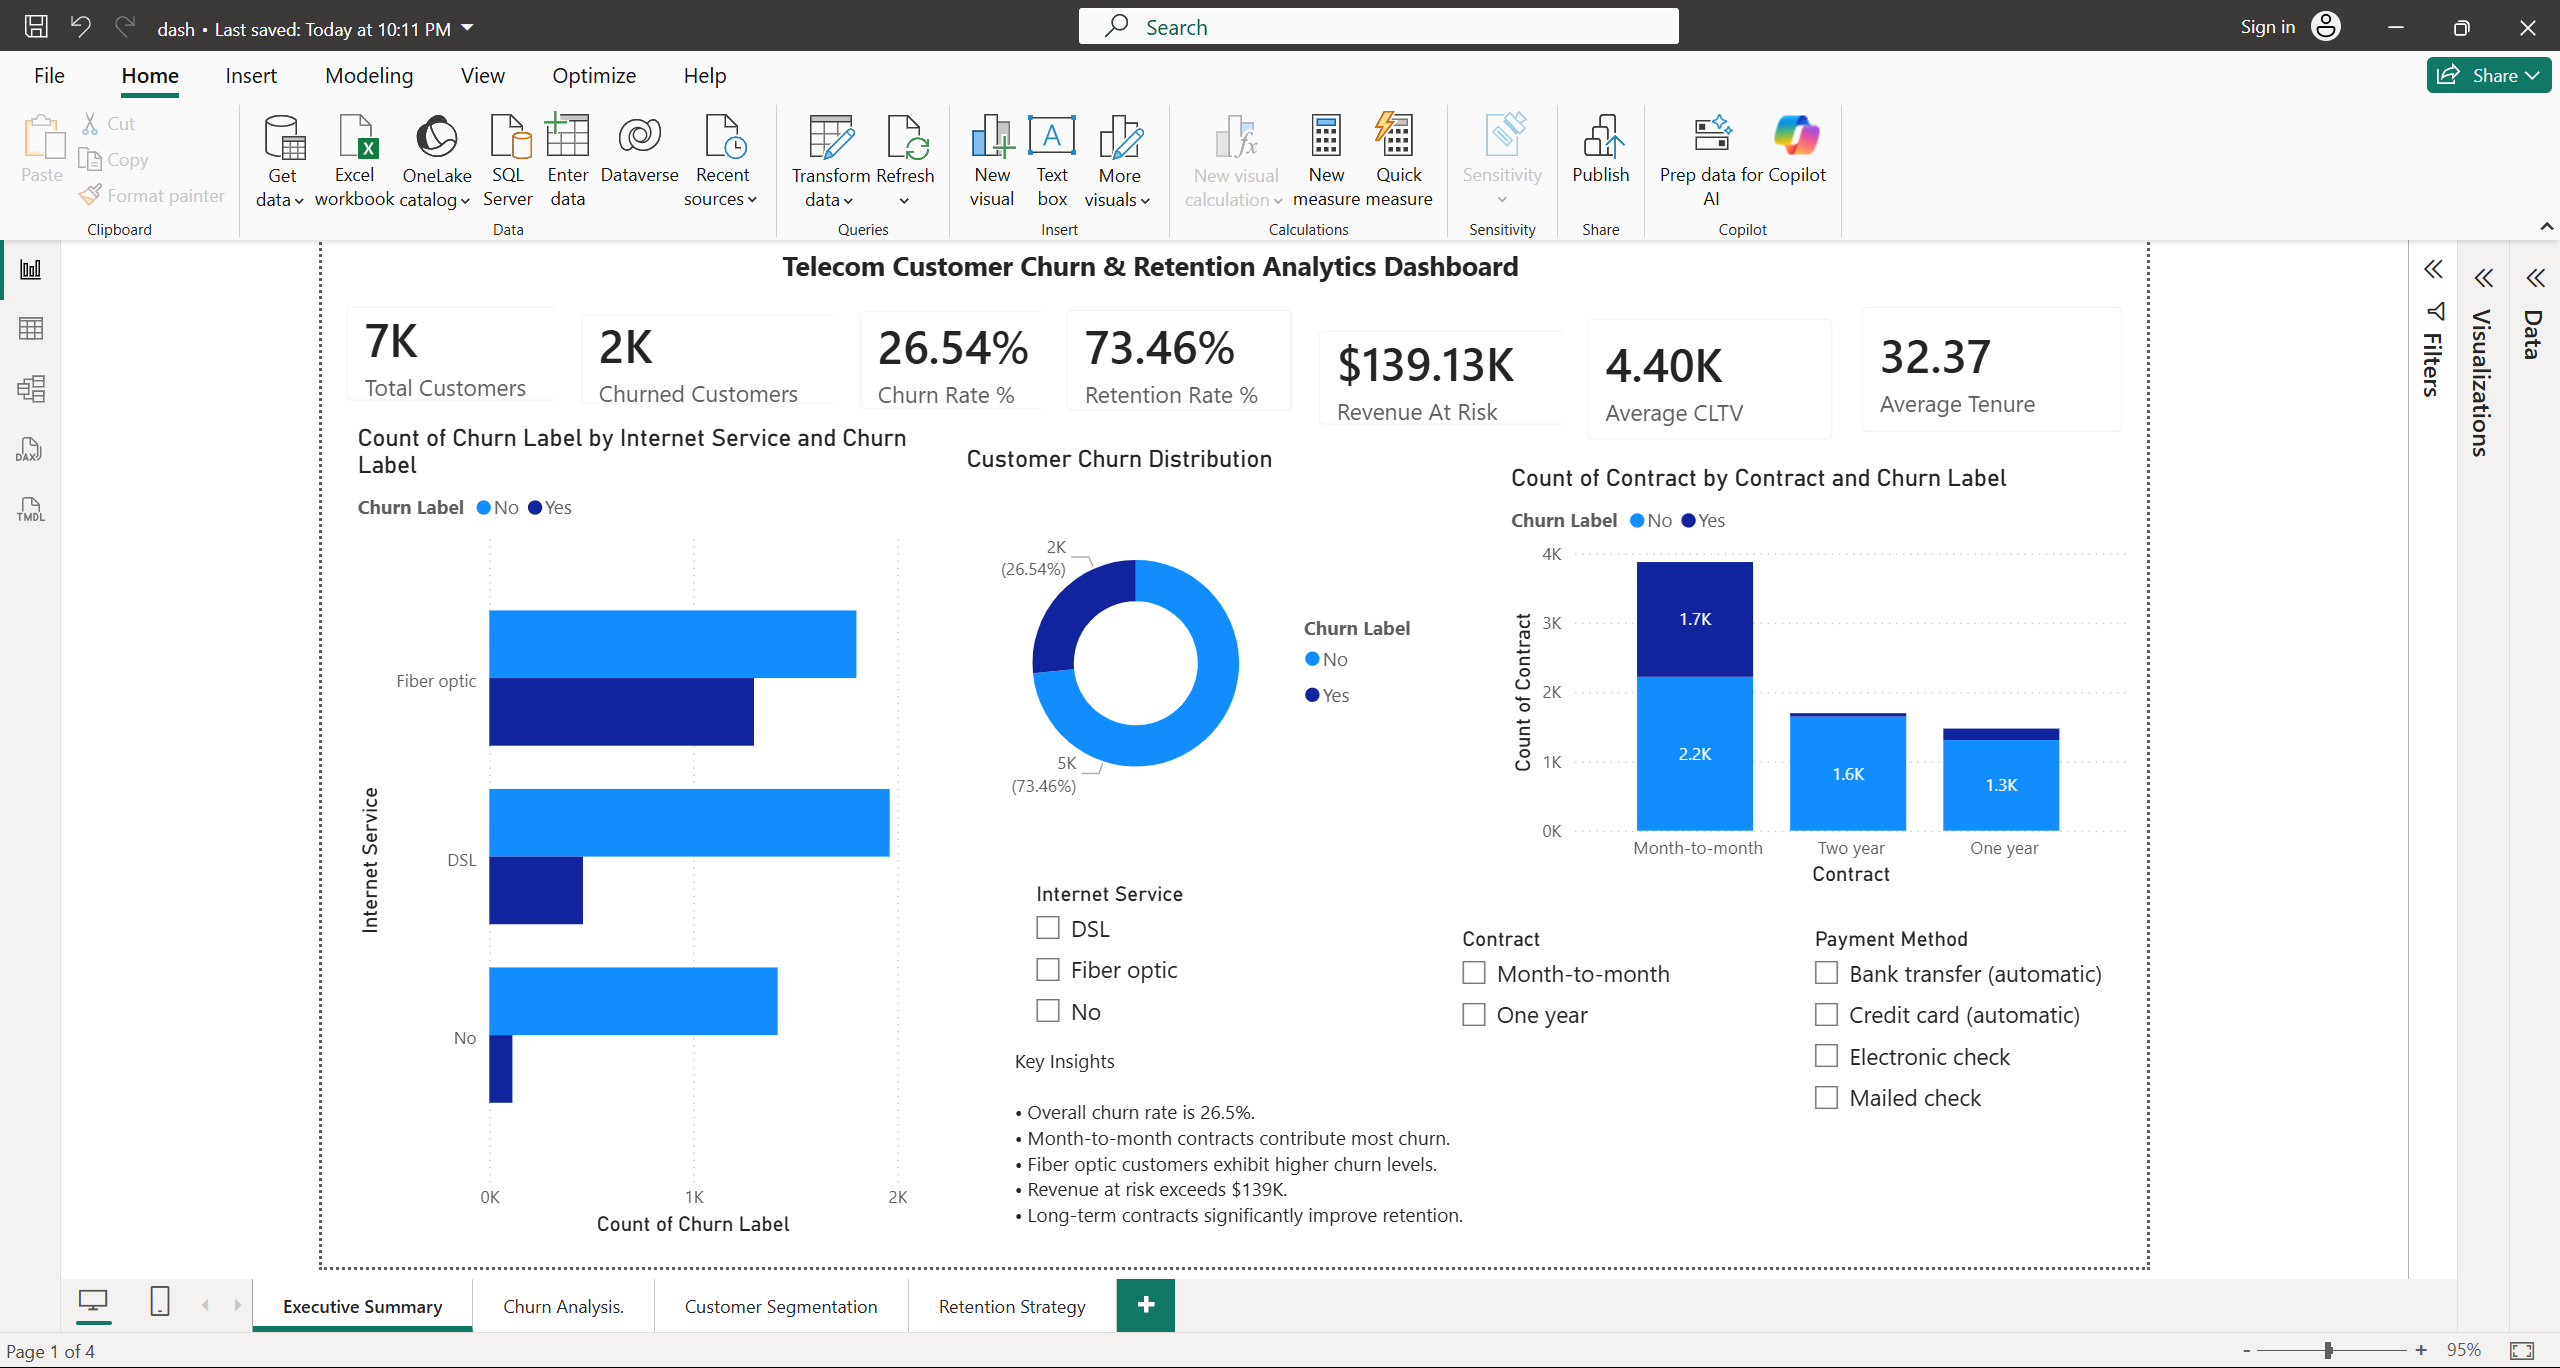

The page's visual inventory and layout, read from the dashboard file:
{"tool":"powerbi","page":{"name":"Executive Summary","canvas":[1280,720],"ordinal":0},"visuals":[{"type":"cardVisual","fields":{"Data":["telco_segmented.Total Customers"]},"box":[0,29,217.8,100.8],"z":0},{"type":"cardVisual","fields":{"Data":["telco_segmented.Churned Customers"]},"box":[164.5,34.8,215.5,97.3],"z":1000},{"type":"cardVisual","fields":{"Data":["telco_segmented.Churn Rate %"]},"box":[359.2,32.4,175,103.1],"z":2000},{"type":"cardVisual","fields":{"Data":["telco_segmented.Revenue At Risk"]},"box":[681.3,46.3,217.8,100.8],"z":3000},{"type":"cardVisual","fields":{"Data":["telco_segmented.Average CLTV"]},"box":[870.2,38.2,206.3,119.3],"z":4000},{"type":"cardVisual","fields":{"Data":["telco_segmented.Average Tenure"]},"box":[1062.6,29,217.8,122.8],"z":5000},{"type":"donutChart","title":"Customer Churn Distribution","fields":{"Category":["telco_segmented.Churn Label"],"Y":["telco_segmented.Total Customers"]},"box":[447.3,142.5,339.5,287.4],"z":6000},{"type":"columnChart","fields":{"Series":["telco_segmented.Churn Label"],"Category":["telco_segmented.Contract"],"Y":["CountNonNull(telco_segmented.Contract)"]},"box":[828.5,156.4,441.5,300.1],"z":7000},{"type":"clusteredBarChart","fields":{"Category":["telco_segmented.Internet Service"],"Y":["CountNonNull(telco_segmented.Churn Label)"],"Series":["telco_segmented.Churn Label"]},"box":[19.7,128.6,395.1,573.6],"z":8000},{"type":"slicer","fields":{"Values":["telco_segmented.Contract"]},"box":[786.8,476.2,223.6,129.8],"z":9000},{"type":"slicer","fields":{"Values":["telco_segmented.Internet Service"]},"box":[487.8,445,226,115.9],"z":10000},{"type":"slicer","fields":{"Values":["telco_segmented.Payment Method"]},"box":[1033.6,476.2,246.8,156.4],"z":11000},{"type":"textbox","box":[768,561,224,150],"z":12000},{"type":"textbox","box":[480.9,560.8,465.8,142.5],"z":13000},{"type":"textbox","box":[317.5,0,530.7,46.3],"z":14000},{"type":"cardVisual","fields":{"Data":["telco_segmented.Retention Rate %"]},"box":[505.2,31.3,192.3,105.4],"z":15000}]}

Visuals, with their boxes on the page's 1280x720 design canvas (x1, y1, x2, y2). These are canvas units, not pixel positions in the 2560x1368 screenshot, which may show the page scaled, cropped or inside an application window:
cardVisual - telco_segmented.Total Customers: [0,29,218,130]
cardVisual - telco_segmented.Churned Customers: [164,35,380,132]
cardVisual - telco_segmented.Churn Rate %: [359,32,534,136]
cardVisual - telco_segmented.Revenue At Risk: [681,46,899,147]
cardVisual - telco_segmented.Average CLTV: [870,38,1076,158]
cardVisual - telco_segmented.Average Tenure: [1063,29,1280,152]
"Customer Churn Distribution" donutChart: [447,142,787,430]
columnChart - telco_segmented.Churn Label x telco_segmented.Contract: [828,156,1270,456]
clusteredBarChart - telco_segmented.Internet Service x CountNonNull(telco_segmented.Churn Label): [20,129,415,702]
slicer - telco_segmented.Contract: [787,476,1010,606]
slicer - telco_segmented.Internet Service: [488,445,714,561]
slicer - telco_segmented.Payment Method: [1034,476,1280,633]
textbox: [768,561,992,711]
textbox: [481,561,947,703]
textbox: [318,0,848,46]
cardVisual - telco_segmented.Retention Rate %: [505,31,698,137]
